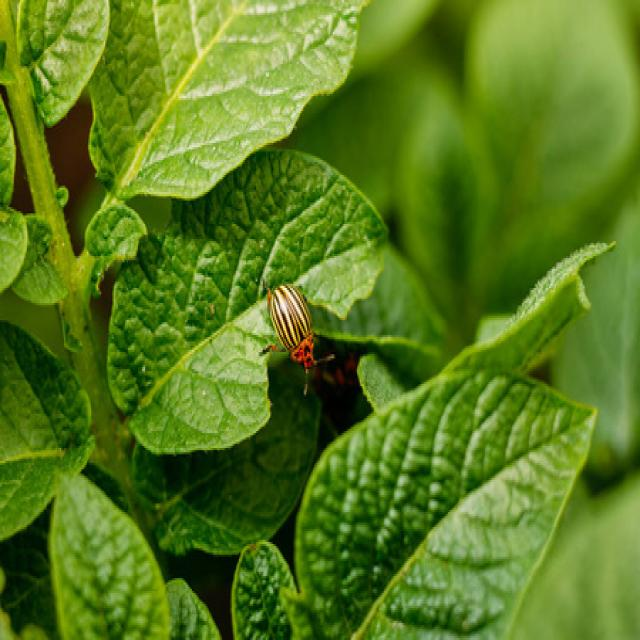ShuCaiHuaBanChong-Grown-: (253, 268, 333, 398)
